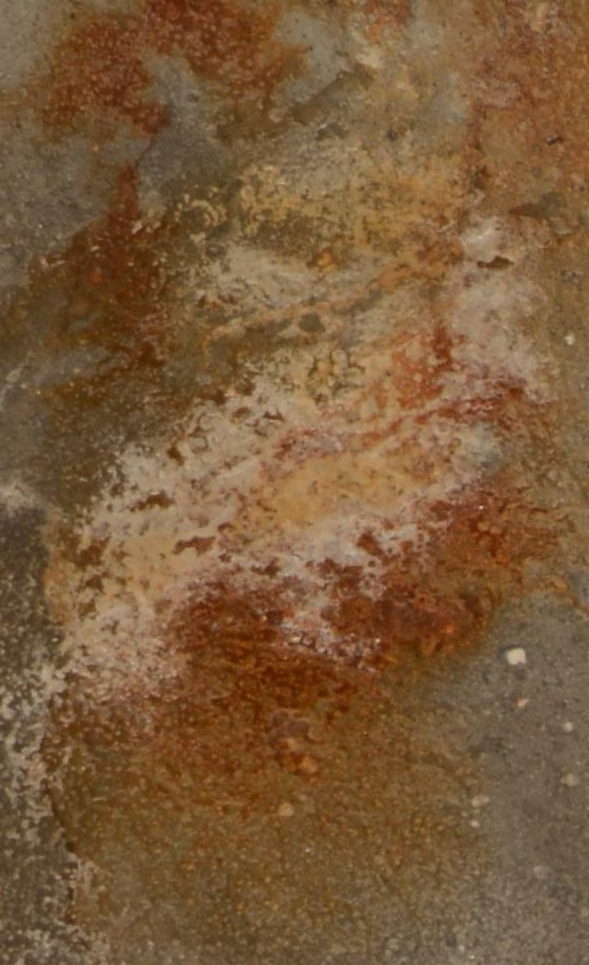Corrosion: (1, 1, 589, 965)
